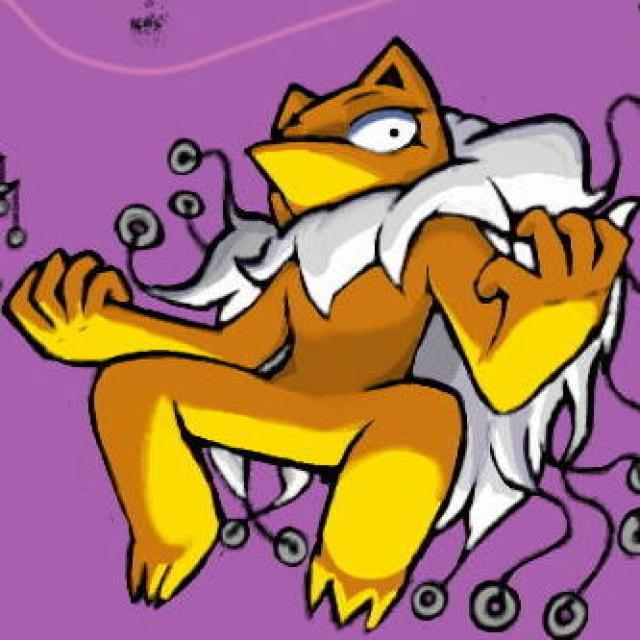Hypno: (116, 42, 618, 577)
